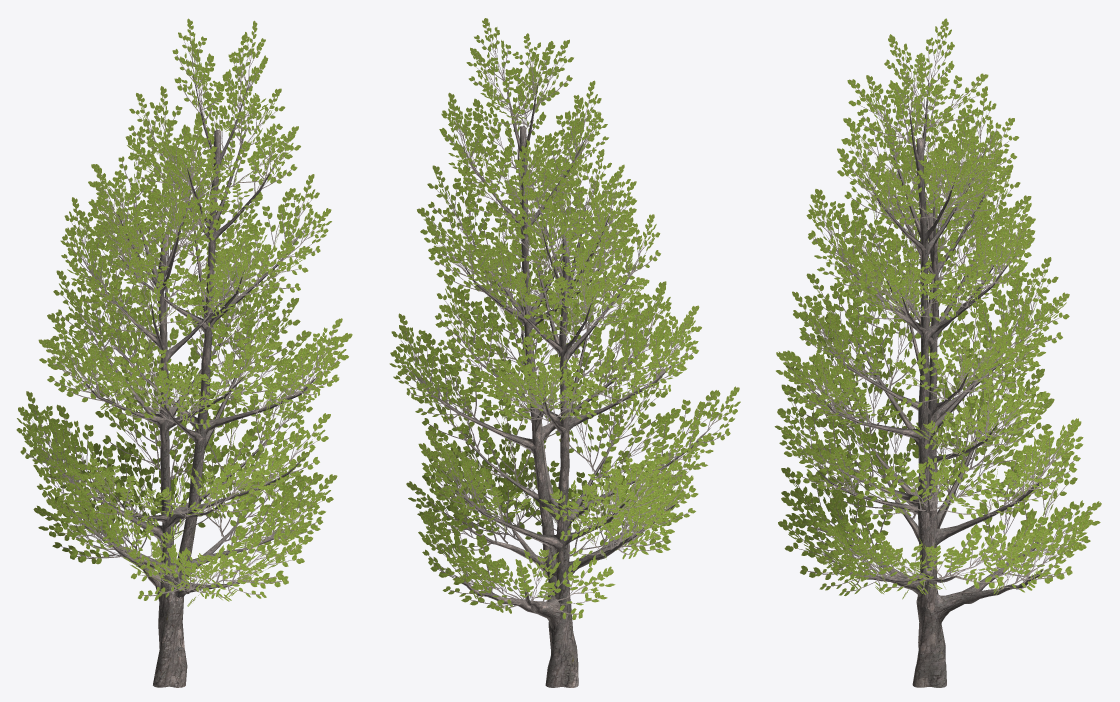
Rendered from tree-street-young-6m.glb.
3 views of the same model, side by side, from view 1: azimuth 30°, elevation 25°; view 2: azimuth 150°, elevation 25°; view 3: azimuth 270°, elevation 25° (orthographic). The views are drawn at different scales.
Visible parts, largest first — view 1: elm leaf_1, bark07_0; view 2: elm leaf_1, bark07_0; view 3: elm leaf_1, bark07_0.
Boxes of the visible parts, x1,y1,x2,y2 form: elm leaf_1: [16, 18, 352, 606]; bark07_0: [46, 75, 322, 687]; elm leaf_1: [389, 18, 740, 619]; bark07_0: [415, 66, 710, 687]; elm leaf_1: [774, 18, 1101, 599]; bark07_0: [806, 69, 1051, 687].
Bounding box in the file's own units: 4.31 × 9.5 × 4.23.
Materials: 2 (2 with a texture image).
